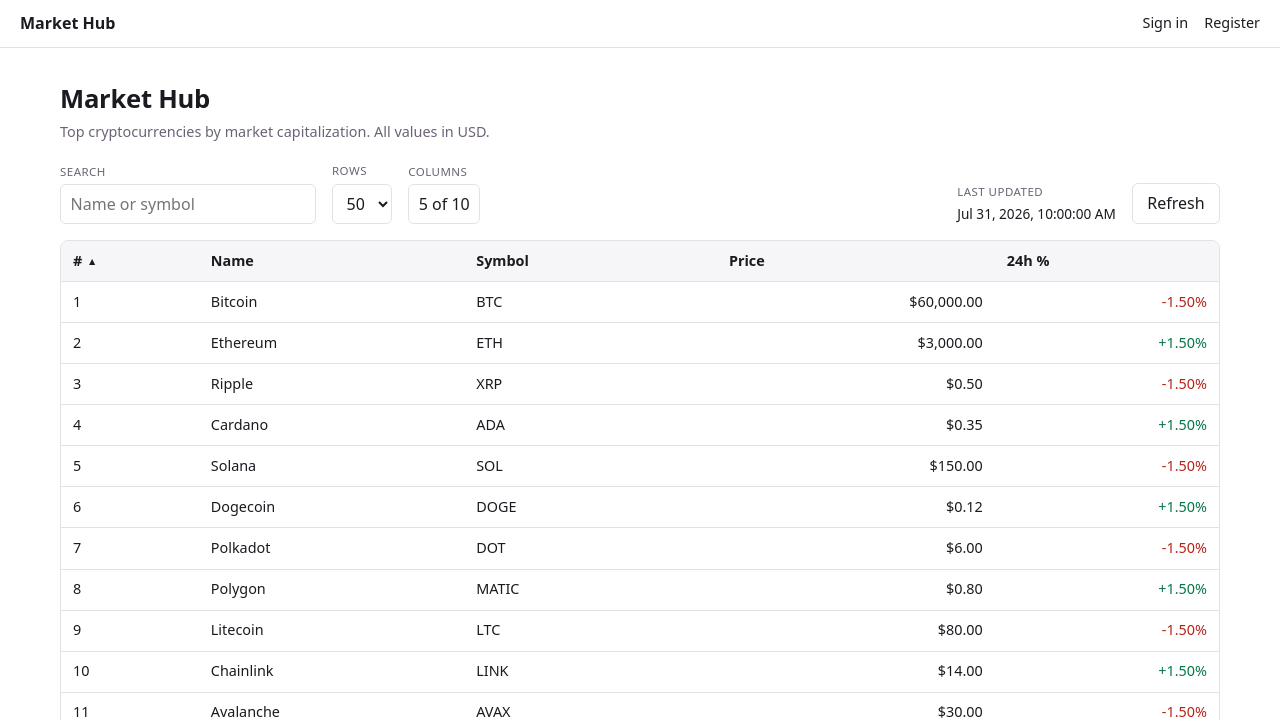
Public Market Dashboard › sorting › toggles to descending on a second click and reflects the server order
The width and height of the screenshot is (1280, 720).
Click the button with aria-label "sort by price": (747,260) [717,241,995,281]
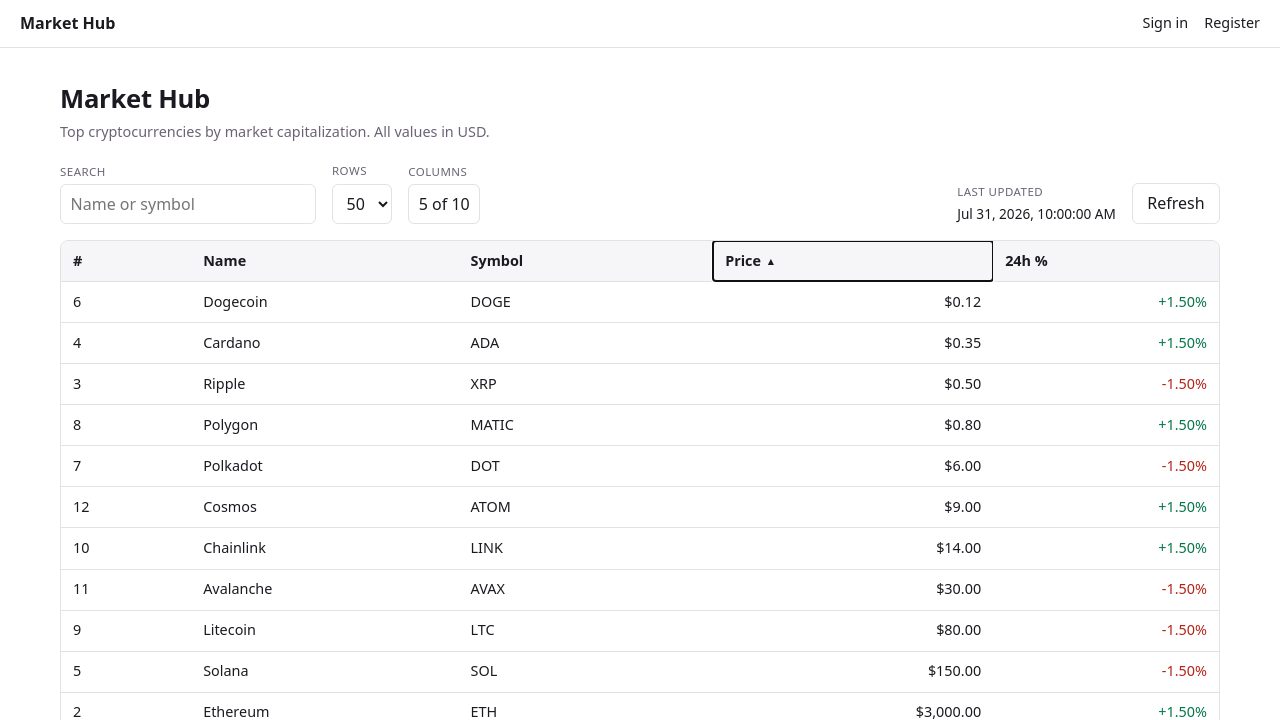
Click the button with aria-label "sort by price": (743,260) [713,241,993,281]
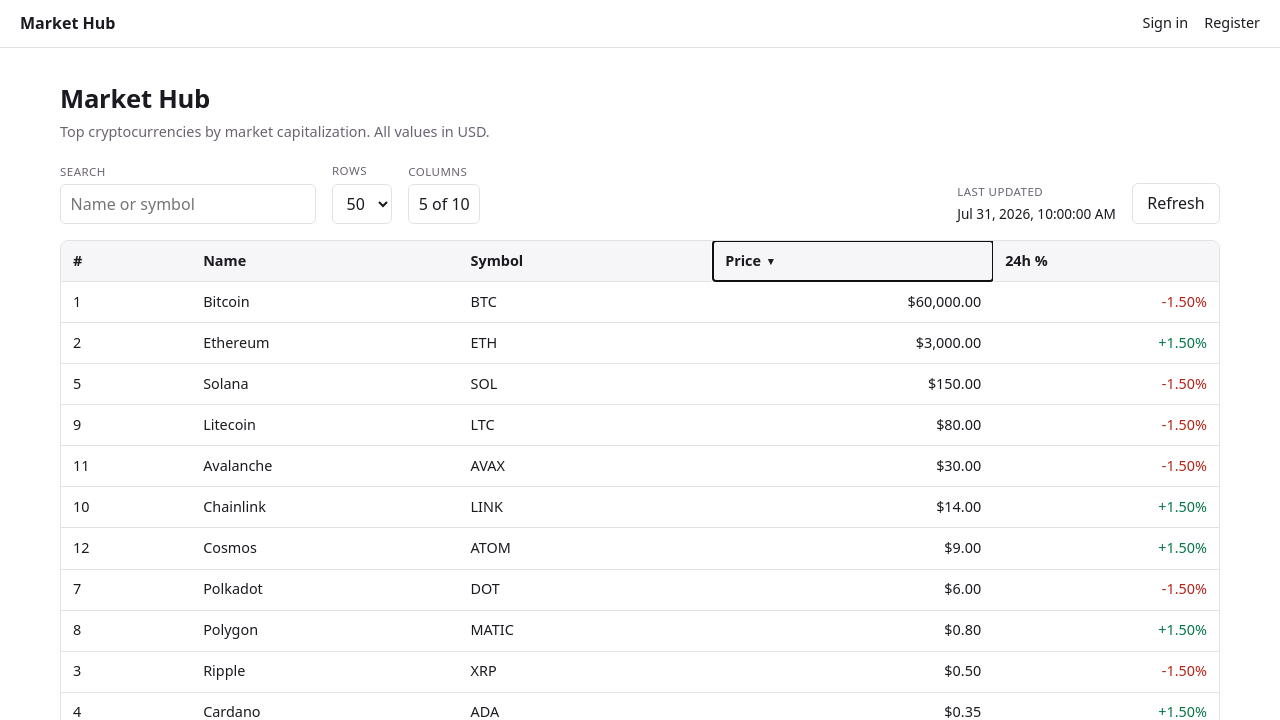
Result: the text "BTC" is shown at [471,292,497,311]
